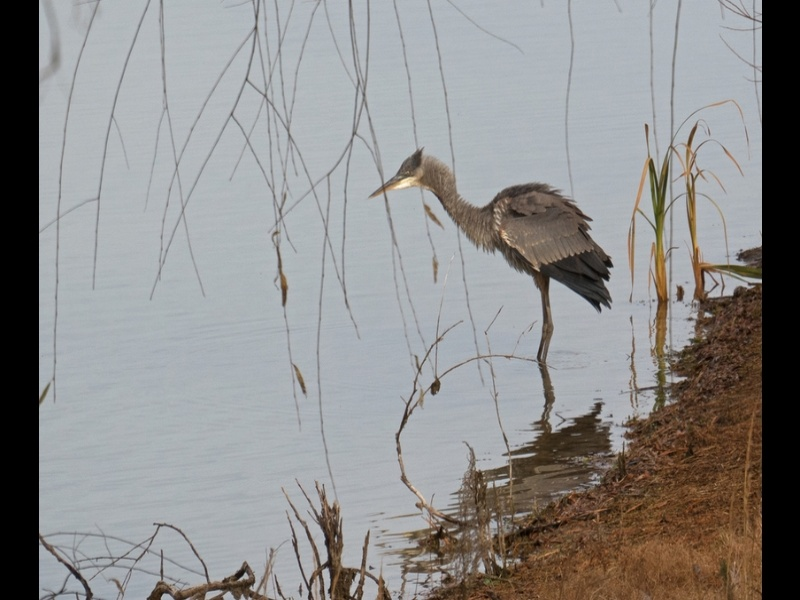heron: (370, 149, 614, 364)
